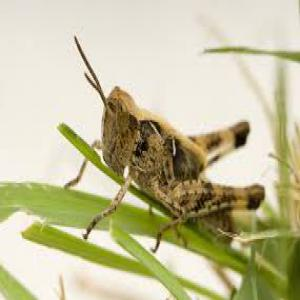locust: (93, 77, 257, 240)
